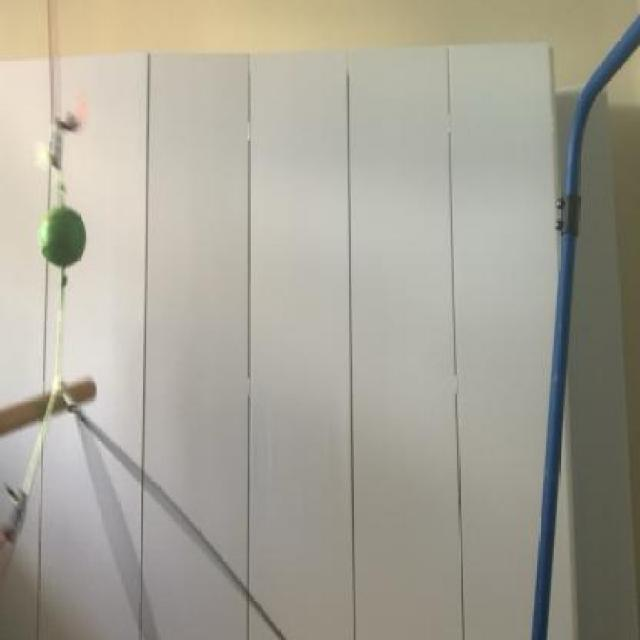baseball: (33, 197, 93, 271)
